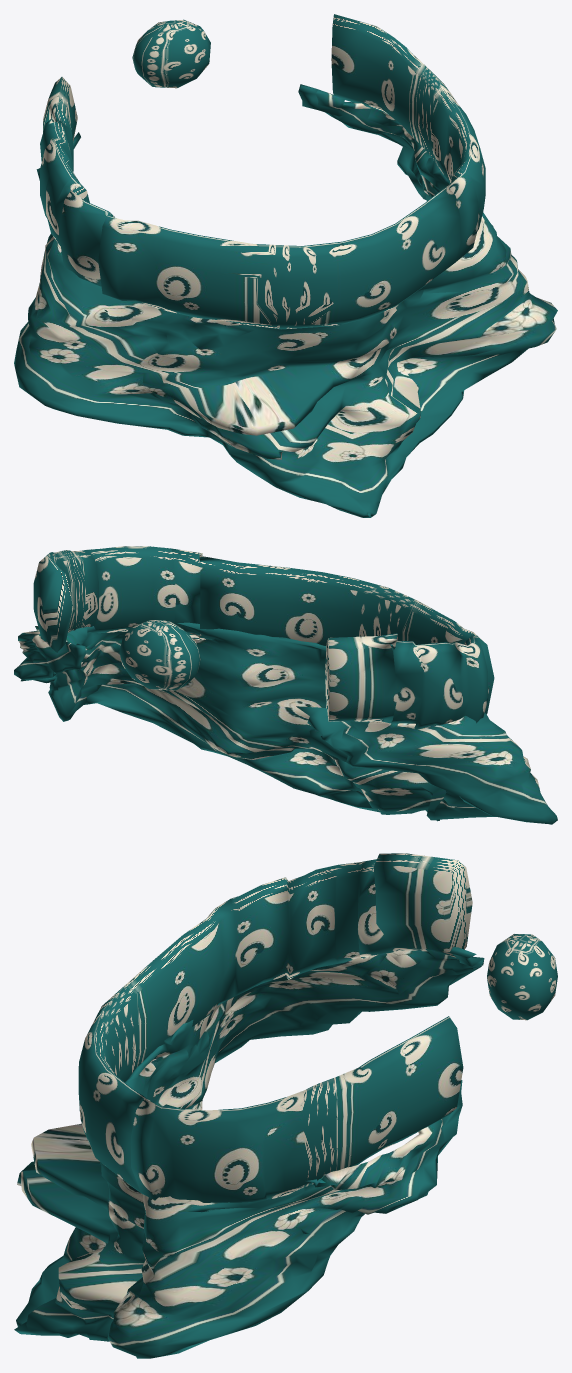
The model's file is bandana.glb.
3 renders of one model, top to bottom at view 1: azimuth 30°, elevation 25°; view 2: azimuth 150°, elevation 25°; view 3: azimuth 270°, elevation 25°, orthographic. The views are drawn at different scales.
Parts seen in each view (by area): view 1: Bandana; view 2: Bandana; view 3: Bandana.
Boxes of the visible parts, x1=… form: Bandana: x1=14, y1=14, x2=557, y2=517; Bandana: x1=14, y1=546, x2=557, y2=824; Bandana: x1=14, y1=853, x2=557, y2=1358.
Bounding box in the file's own units: 3.25 × 2.12 × 2.59.
Materials: 1 (1 with a texture image).
